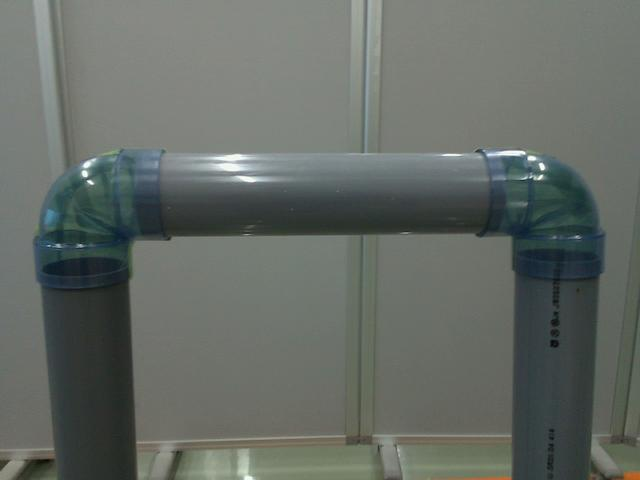bent: (36, 147, 166, 292), (474, 150, 605, 274)
